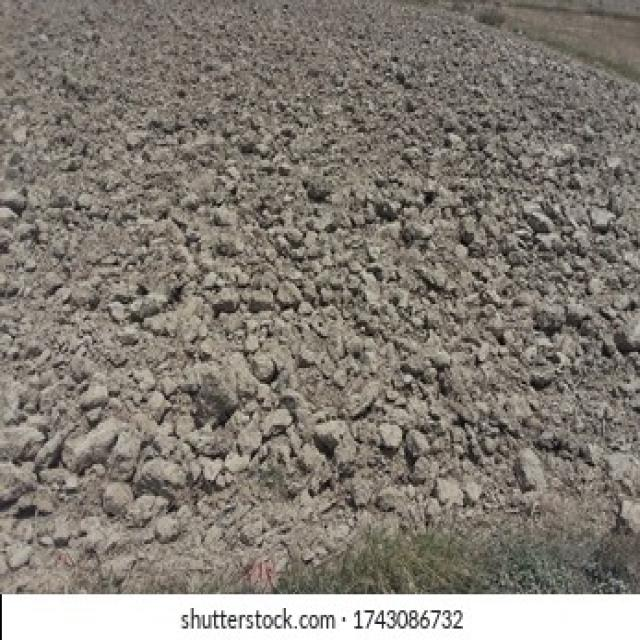Alluvial Soil: (7, 45, 604, 468)
